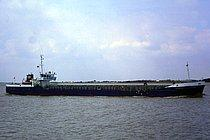Ship: (1, 56, 209, 101)
